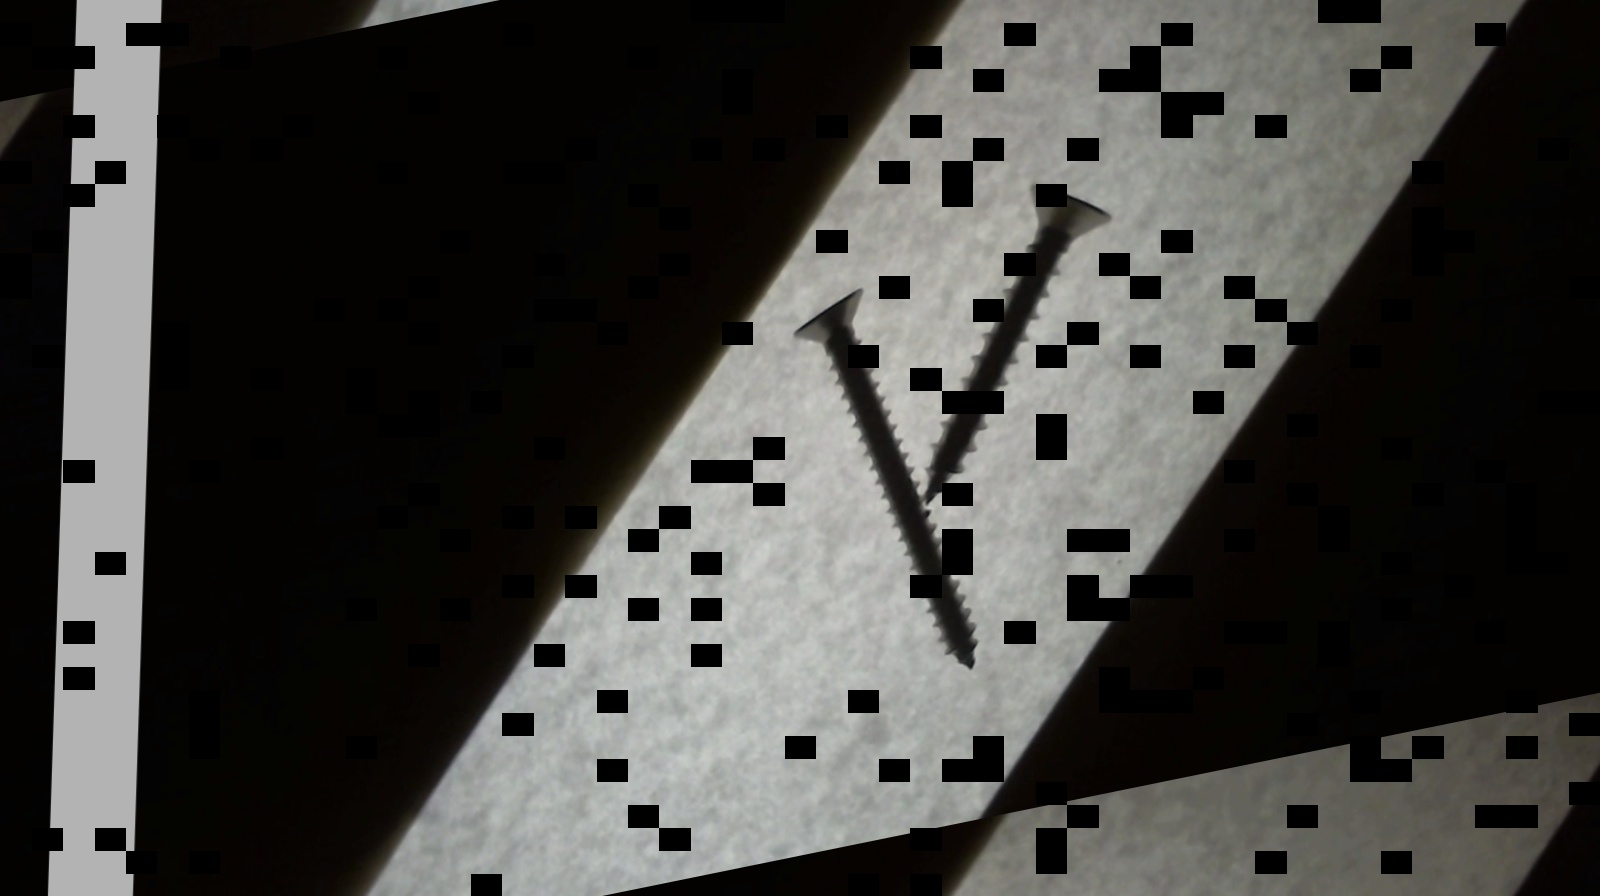S001: (918, 163, 1119, 510)
S002: (781, 253, 997, 708)
